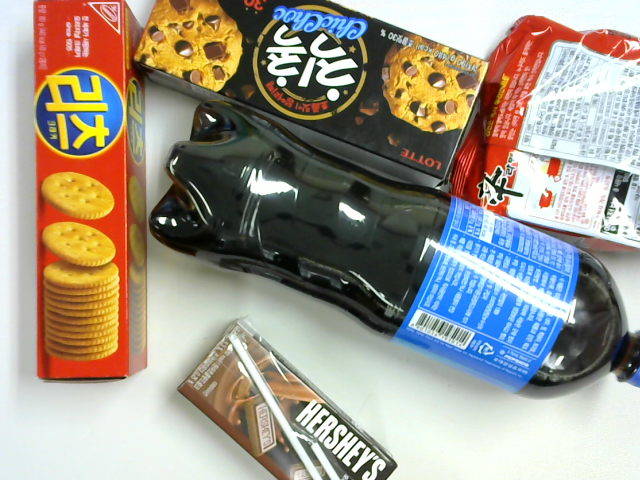Chicchok_Original_2400: (136, 1, 489, 177)
Hush_Choco_Drink: (171, 328, 402, 480)
Pepsi_Cola_1.5L: (139, 97, 640, 385)
Ritz_Cracker: (25, 1, 158, 392)
Sinramen: (463, 37, 640, 241)
